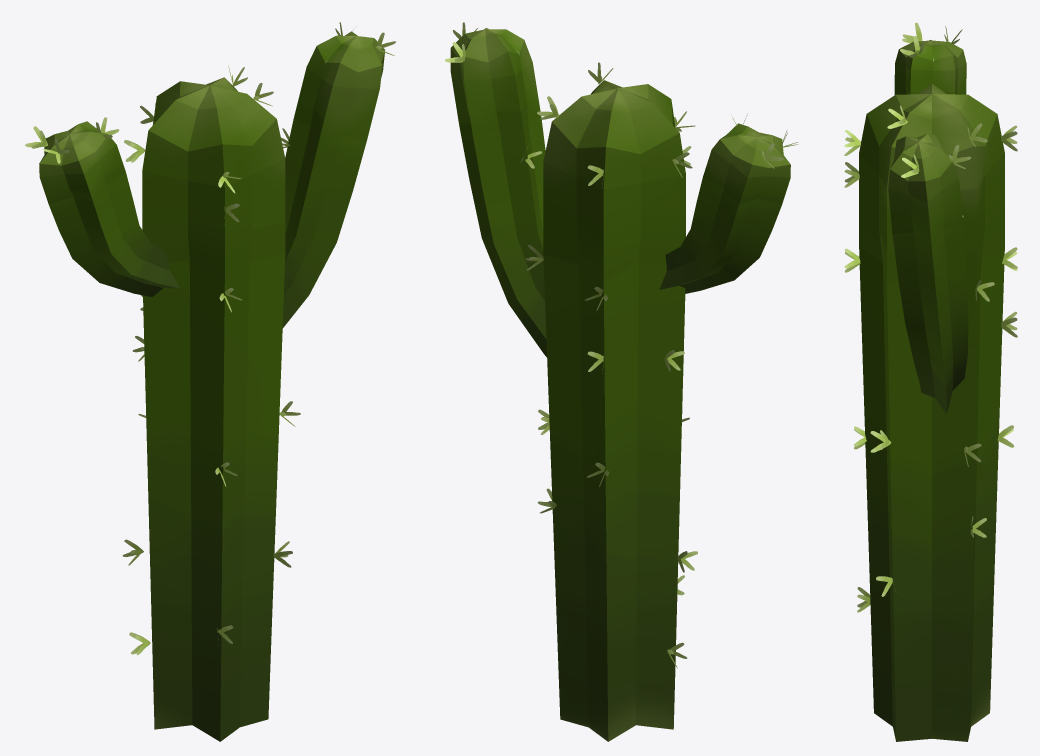
Rendered from Cactus_tall.fbx.
3 renders of one model, left to right at view 1: azimuth 30°, elevation 25°; view 2: azimuth 150°, elevation 25°; view 3: azimuth 270°, elevation 25°, orthographic.
Parts seen in each view (by area): view 1: Cactus_Tall; view 2: Cactus_Tall; view 3: Cactus_Tall.
Part boxes in pixels (box(x1,y1,x2,y2)): Cactus_Tall: box(25, 22, 395, 741); Cactus_Tall: box(444, 22, 798, 741); Cactus_Tall: box(844, 22, 1017, 741).
Size of the model in its own units: 3.72 by 6.4 by 1.68.
